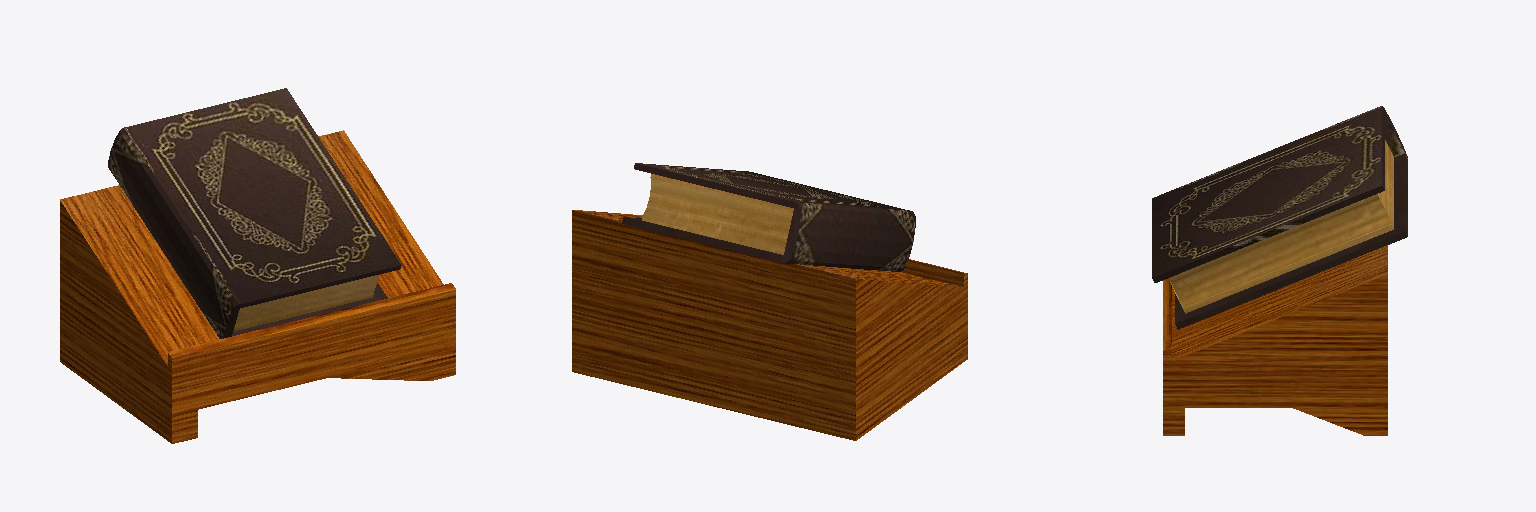
The picture shows the model from 3 angles: view 1: azimuth 30°, elevation 25°; view 2: azimuth 150°, elevation 25°; view 3: azimuth 270°, elevation 25°; orthographic projection.
Visible parts, largest first — view 1: Bible.obj; view 2: Bible.obj; view 3: Bible.obj.
Boxes of the visible parts, x1=… form: Bible.obj: x1=60, y1=88, x2=455, y2=443; Bible.obj: x1=572, y1=163, x2=967, y2=440; Bible.obj: x1=1152, y1=106, x2=1407, y2=435.
Size of the model in its own units: 5.42 by 4.04 by 4.22.
1 materials, 1 textured.